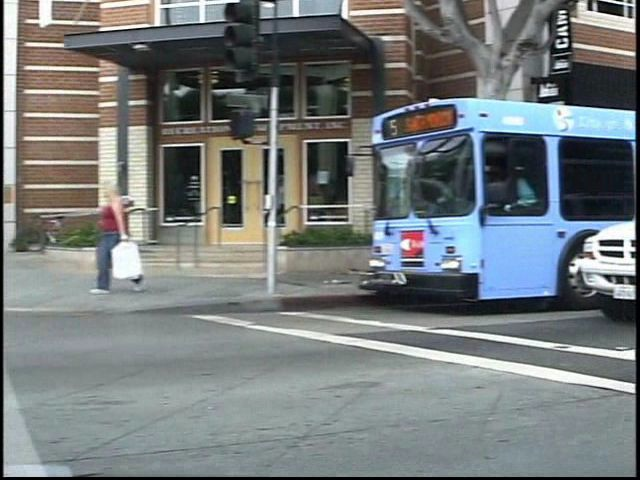person: (97, 179, 156, 304)
